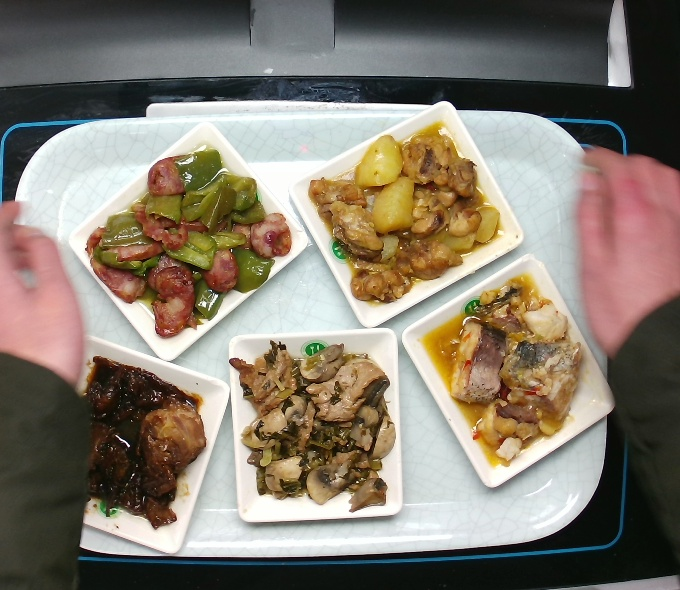wcq-MoGuRouPian: (233, 339, 399, 512)
wcq-QingJiaoXiangChang: (84, 142, 295, 338)
wcq-SuanCaiYu: (419, 272, 588, 469)
wcq-TuDouJiKuai: (308, 122, 503, 304)
